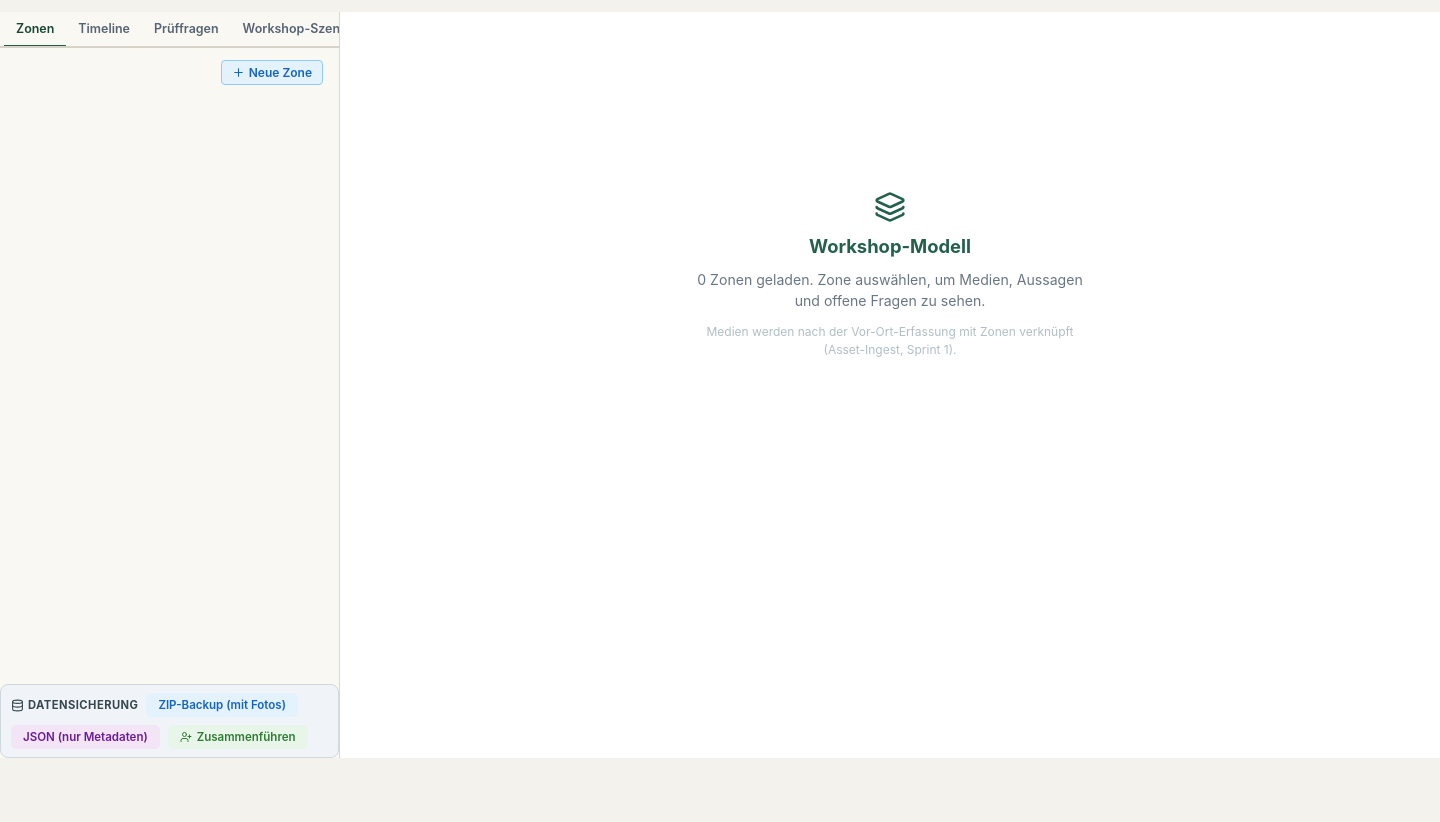
Test: Workshop workflow readiness › reaches Workshop-Szenen and opens the real scene editor
Expected: the button "Workshop-Szenen" is shown, [231,12,339,48]
Click the button "Workshop-Szenen": (299, 30) [231,12,367,48]
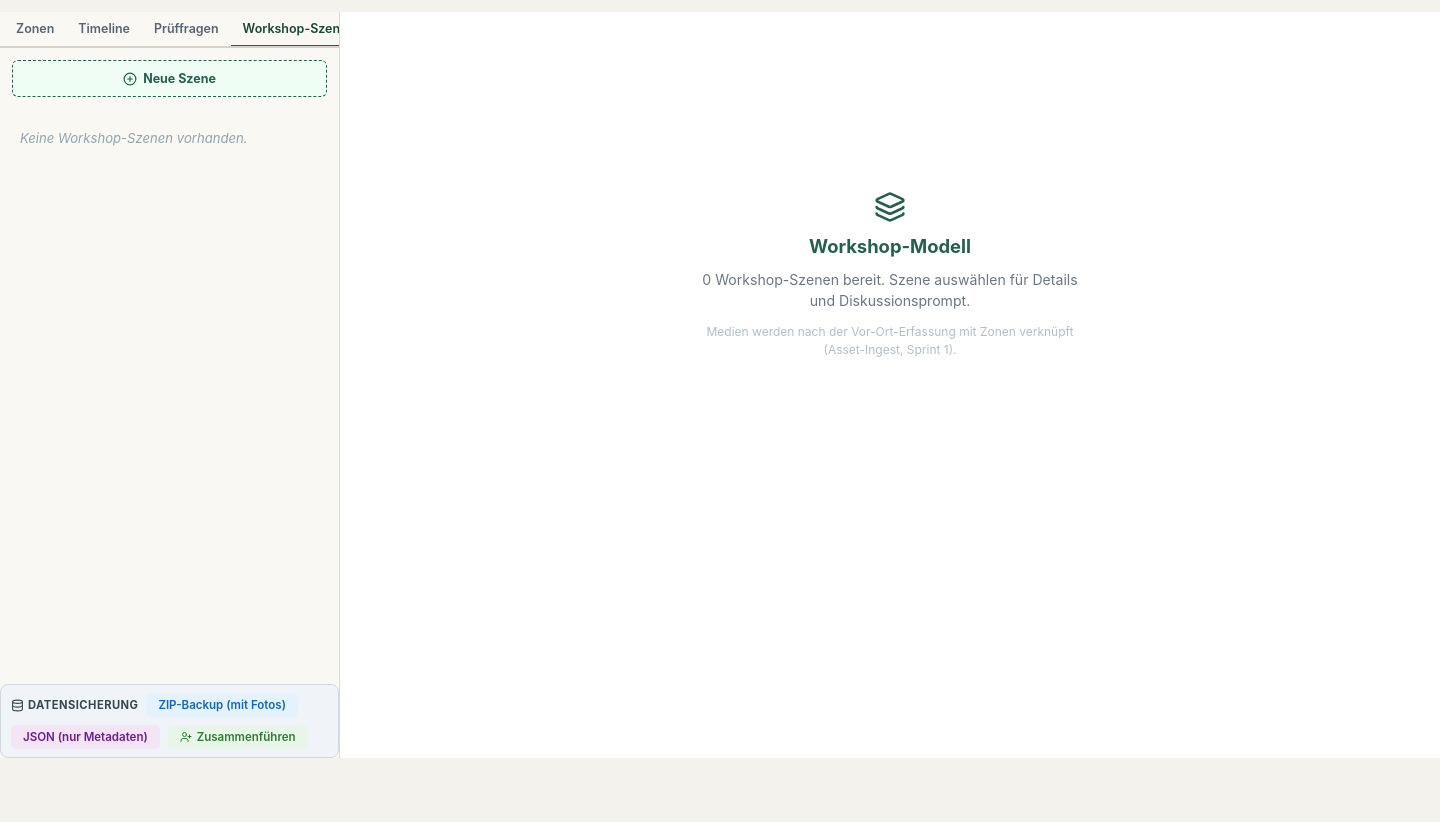
Now the text "Keine Workshop-Szenen vorhanden." is shown, box [20,130,248,146]
Click the button "Neue Szene": (170, 78) [12,60,327,97]
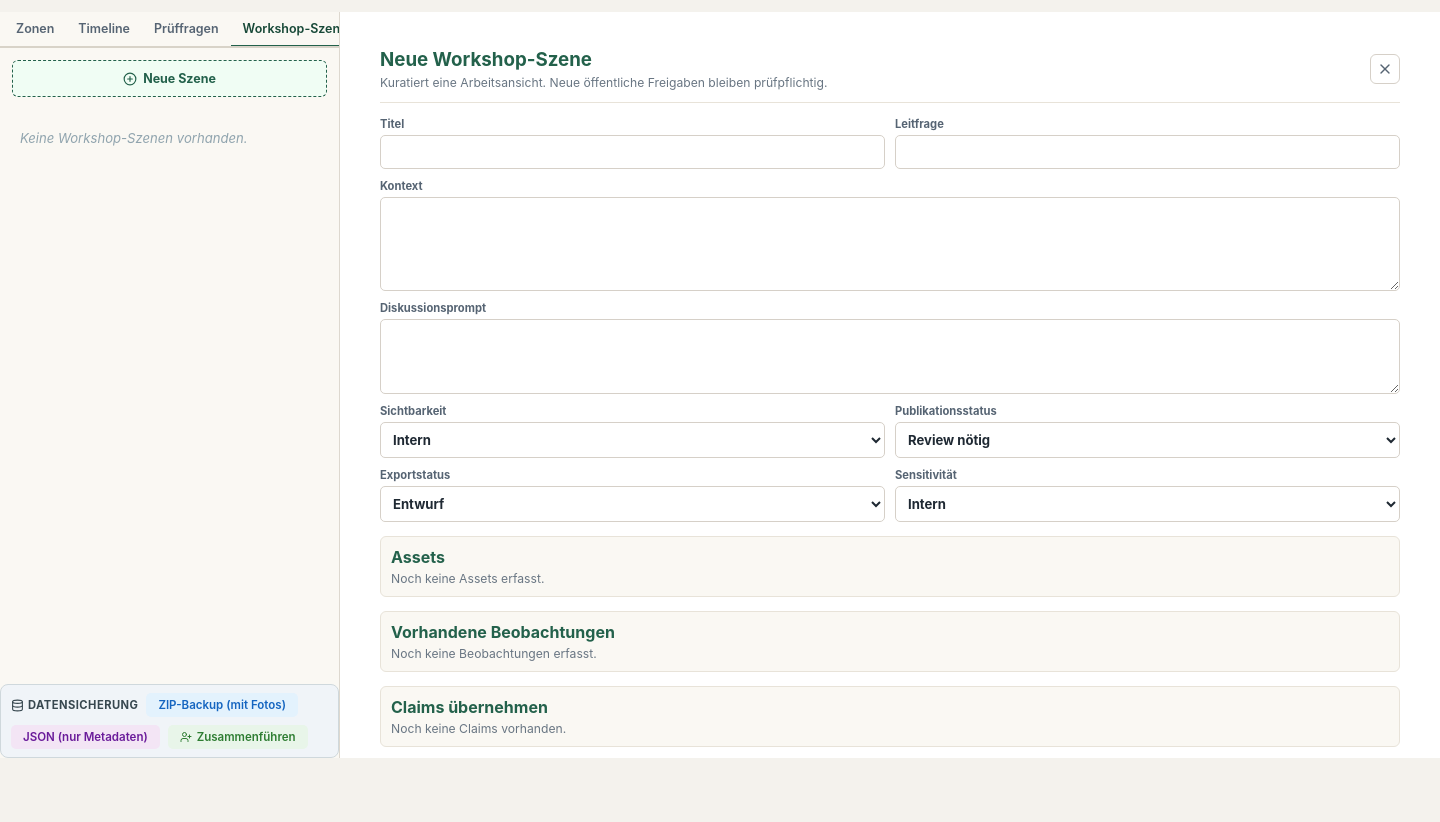
Now the heading "Neue Workshop-Szene" is shown, box [380,48,592,71]
Now the text "Kuratiert eine Arbeitsansicht. Neue öffentliche Freigaben bleiben prüfpflichtig." is shown, box [380,75,828,90]
Now the field labelled "Titel" is shown, box [380,135,885,169]
